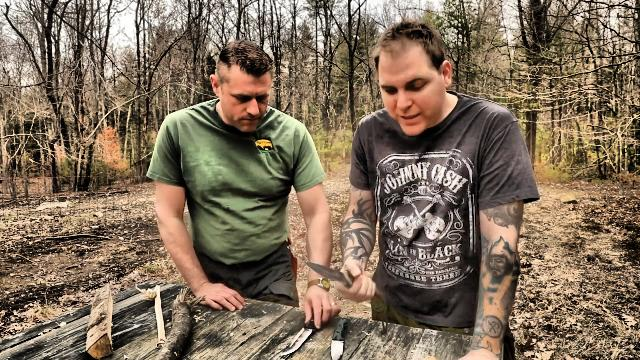knife: (300, 253, 384, 303)
